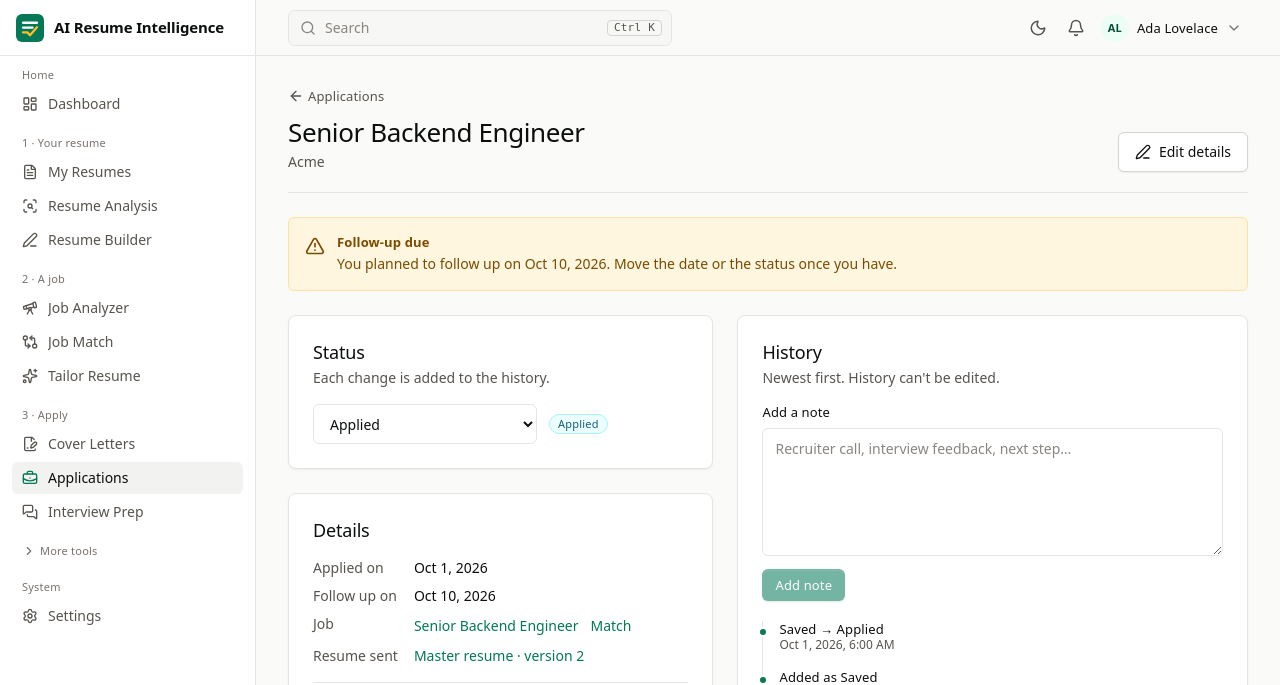
Test: Applications › shows the history, changes status and adds notes
This screenshot has width=1280, height=685.
Expected: the text "Follow-up due" is shown, [337,233,430,251]
Expected: the text "Saved → Applied" is shown, [780,620,884,638]
Select "Interviewing" in the dropdown named "Change status" at {"x": 425, "y": 424}, box [313,404,537,444]
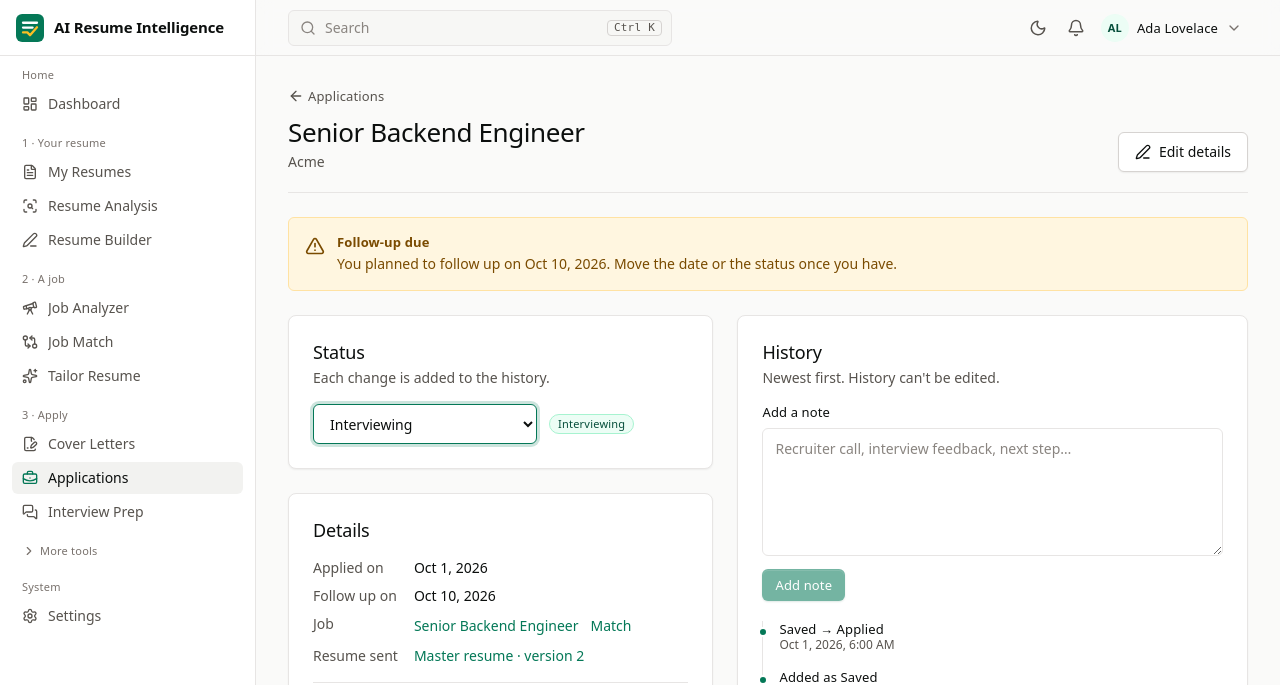
Type "Recruiter called" into the text box labelled "Add a note".
click(993, 492); type("Recruiter called")  # box [762,428,1223,556]
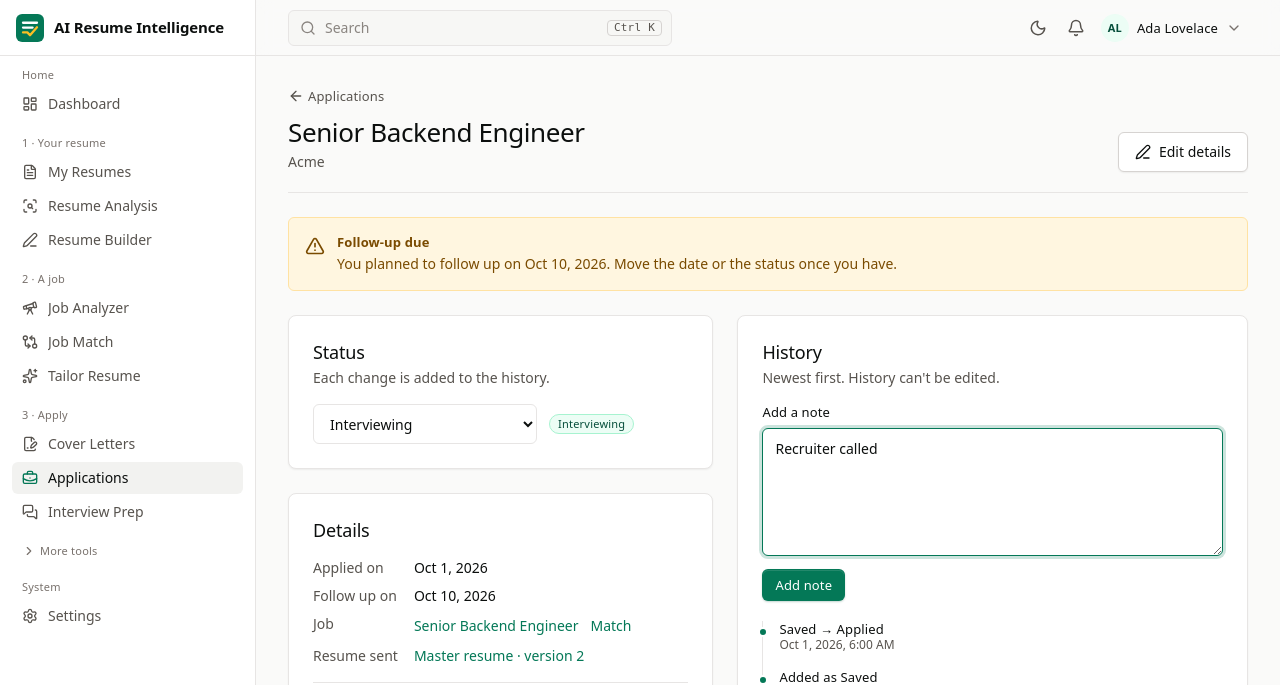
Click the button "Add note".
click(804, 585)  # box [762,569,845,601]
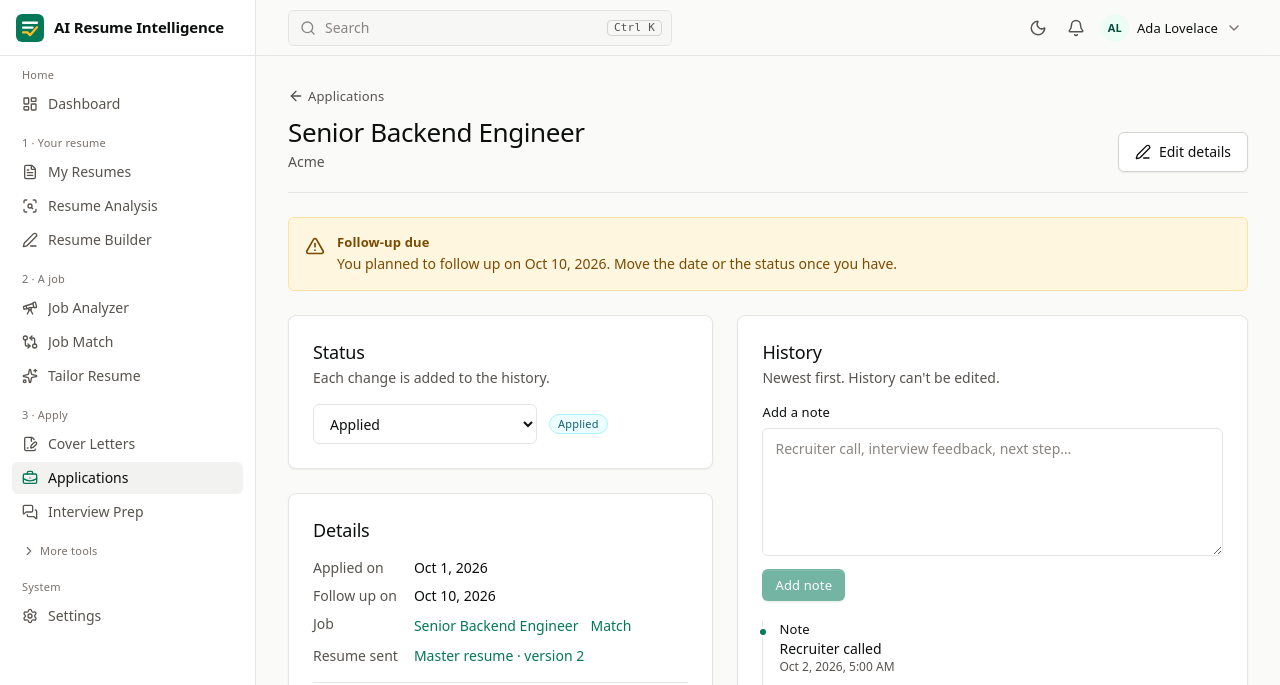
Expected: the text "Recruiter called" is shown, [780,639,882,658]
Expected: the text box labelled "Add a note" is empty, [762,428,1223,556]
